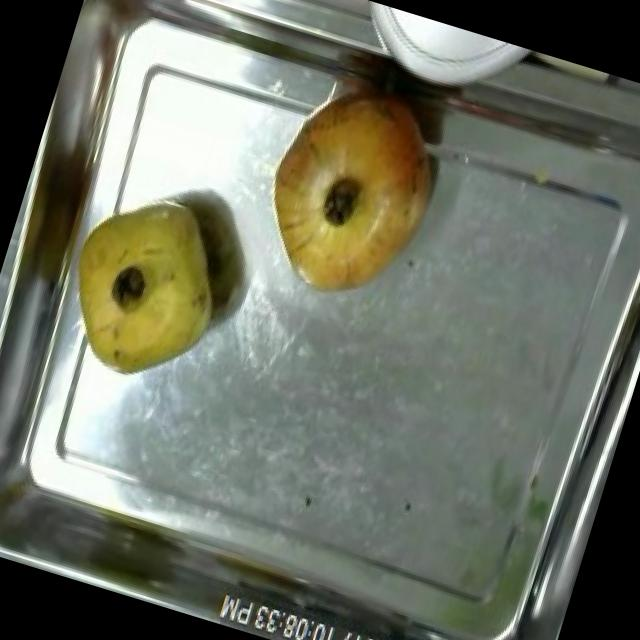fruit: (235, 61, 468, 334), (41, 168, 252, 404)
